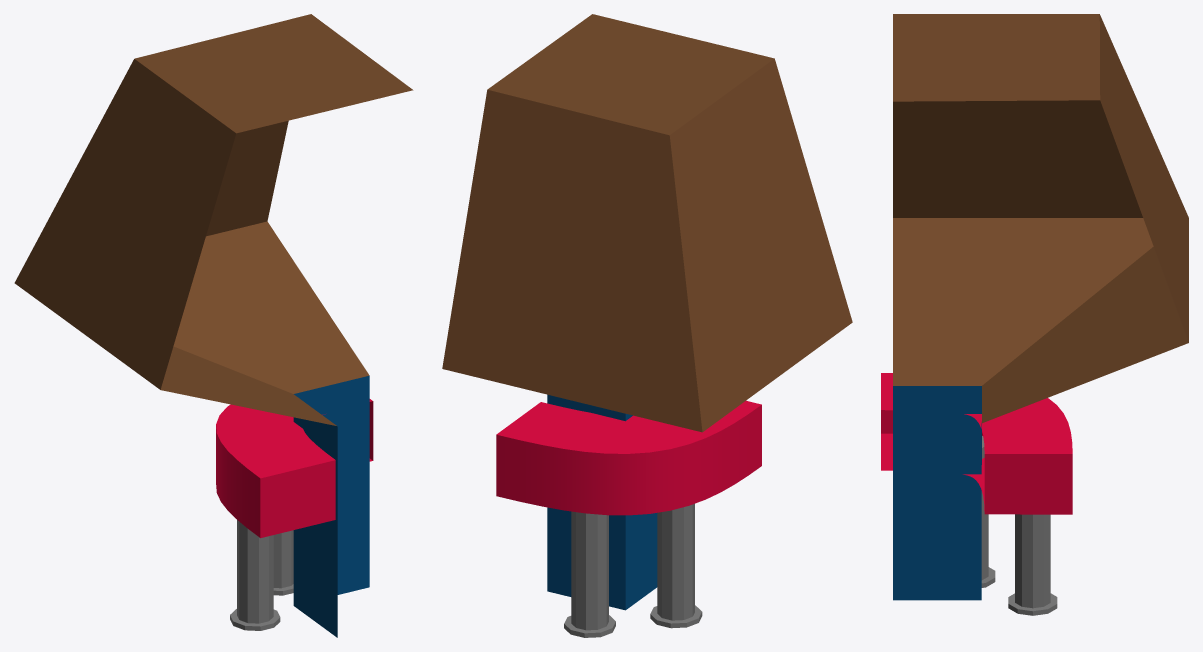
The model's file is Piller.fbx.
3 views of the same model, side by side, from view 1: azimuth 30°, elevation 25°; view 2: azimuth 150°, elevation 25°; view 3: azimuth 270°, elevation 25° (orthographic). The views are drawn at different scales.
Visible parts, largest first — view 1: Piller, Cube.011, Cylinder.027, Cylinder.028; view 2: Piller, Cube.011, Cylinder.028, Cylinder.027; view 3: Piller, Cube.011, Cylinder.028, Cylinder.027.
Part boxes in pixels (x1=…): Piller: x1=14, y1=14, x2=413, y2=637; Cube.011: x1=216, y1=399, x2=373, y2=538; Cylinder.027: x1=230, y1=520, x2=280, y2=630; Cylinder.028: x1=273, y1=530, x2=293, y2=595; Piller: x1=442, y1=14, x2=852, y2=610; Cube.011: x1=496, y1=400, x2=761, y2=515; Cylinder.028: x1=564, y1=511, x2=615, y2=637; Cylinder.027: x1=650, y1=503, x2=702, y2=628; Piller: x1=893, y1=14, x2=1188, y2=600; Cube.011: x1=881, y1=373, x2=1072, y2=514; Cylinder.028: x1=1008, y1=514, x2=1057, y2=615; Cylinder.027: x1=981, y1=436, x2=995, y2=587.
Size of the model in its own units: 1.02 by 2.01 by 1.04.
3 materials, 1 textured.
